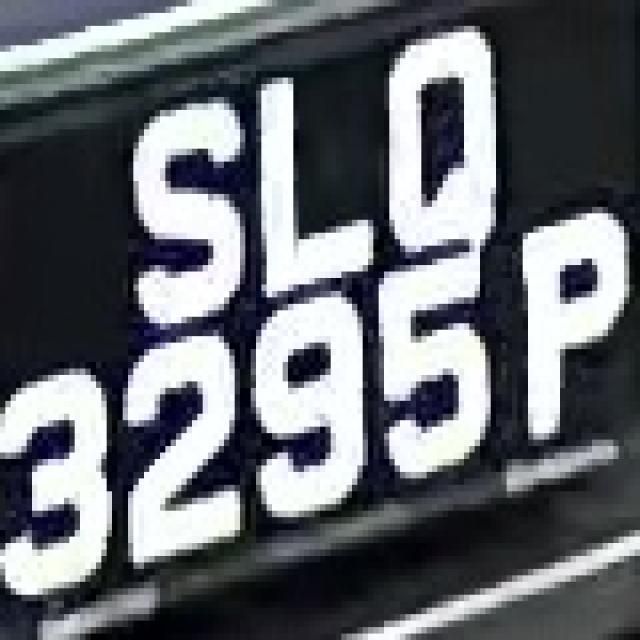2: (128, 330, 251, 575)
3: (5, 342, 112, 608)
5: (373, 239, 496, 485)
9: (240, 284, 368, 524)
L: (240, 52, 373, 284)
P: (517, 181, 624, 446)
Q: (379, 26, 528, 265)
S: (117, 84, 256, 317)
